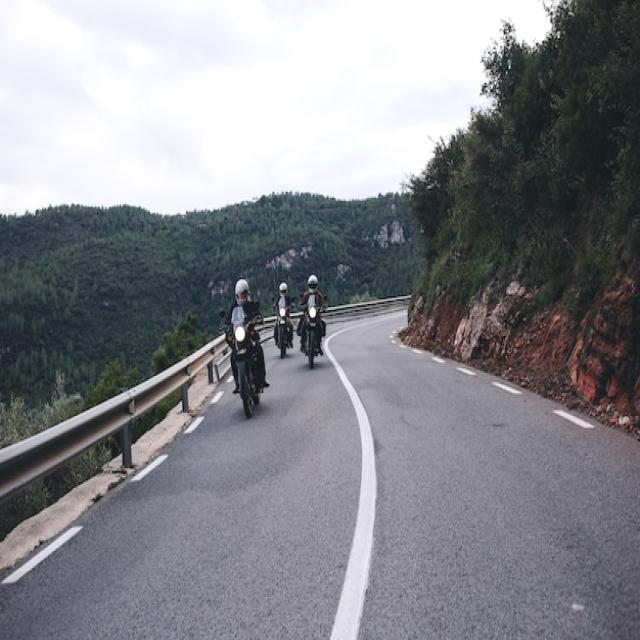MOTORCYCLE: (223, 302, 266, 414), (301, 297, 326, 368), (274, 295, 294, 357)
